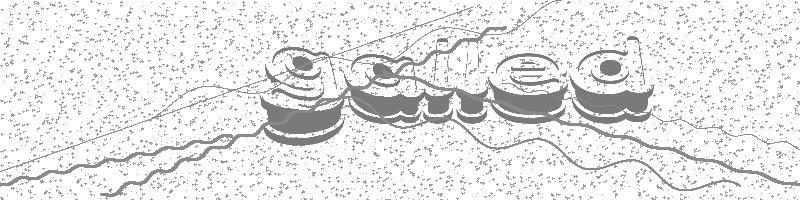a: (347, 54, 424, 123)
e: (570, 36, 655, 124), (489, 53, 570, 123)
g: (260, 47, 345, 145)
l: (456, 39, 488, 123), (425, 39, 456, 125)
